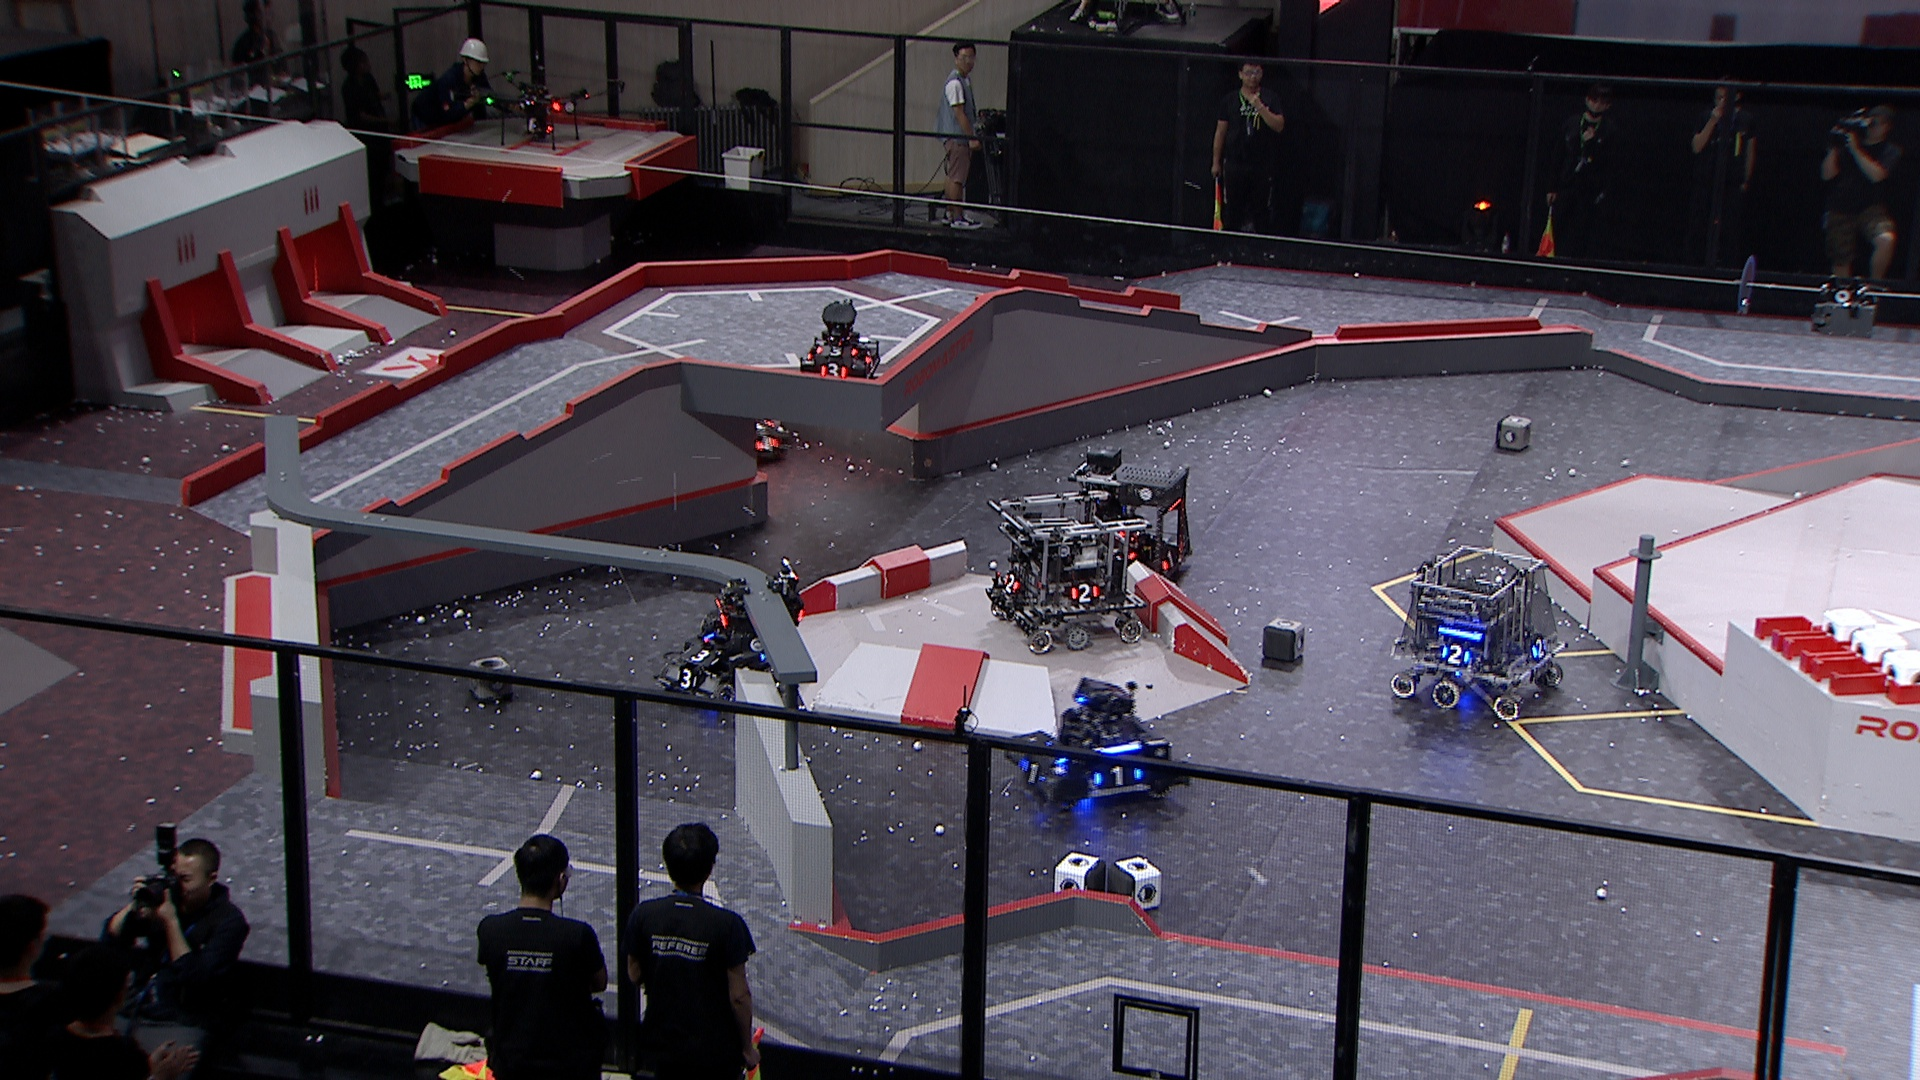armor: (1091, 764, 1145, 793), (1015, 756, 1054, 793), (680, 644, 717, 670), (1437, 645, 1477, 669), (814, 342, 858, 361), (711, 597, 736, 626), (673, 666, 703, 690), (818, 360, 851, 380), (752, 433, 781, 455), (1069, 583, 1100, 604), (998, 570, 1022, 595), (1158, 549, 1182, 572), (1528, 636, 1549, 661), (862, 347, 876, 367)
car: (1382, 545, 1569, 723), (997, 676, 1189, 818), (986, 489, 1147, 651), (1059, 458, 1195, 588), (651, 611, 774, 711), (695, 382, 790, 469), (795, 297, 880, 384)
watcher: (709, 553, 811, 654)
